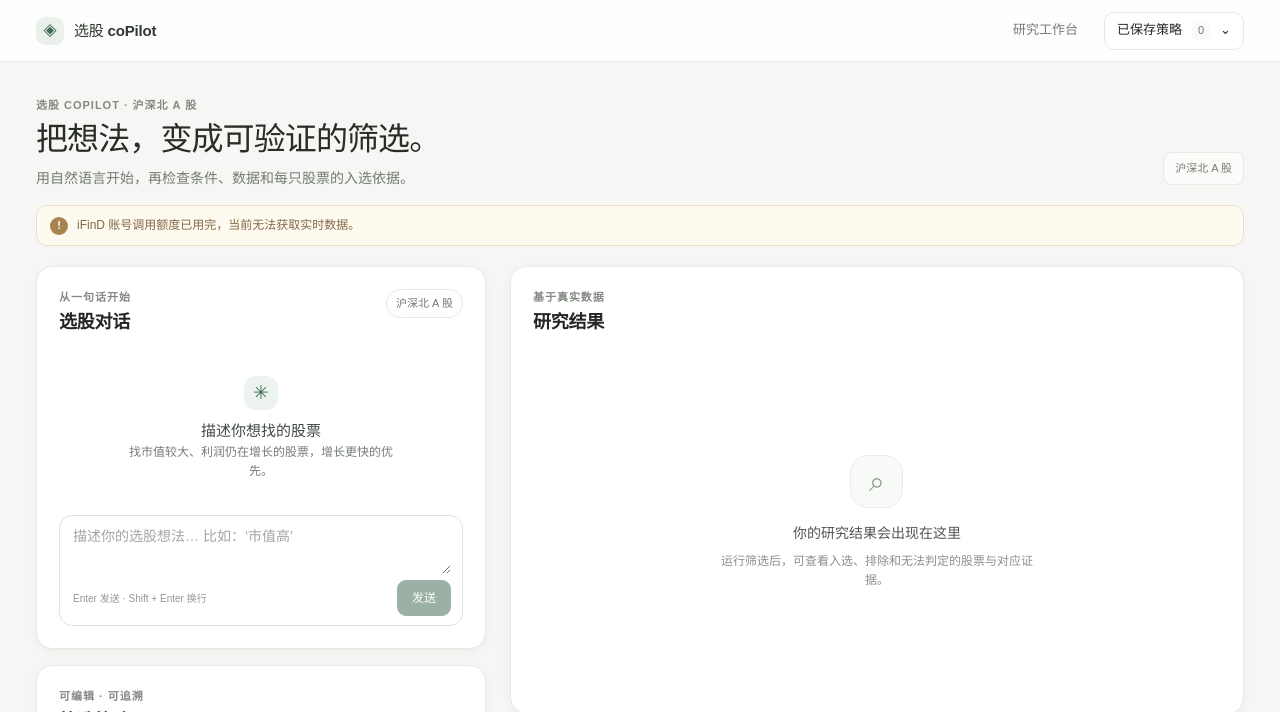
Test: CopilotWorkspace › renders industry concepts and unknown concepts without internal identifiers
Type "银行股" into the text box named "请输入选股需求" at [262, 550], box [73,526,451,574]
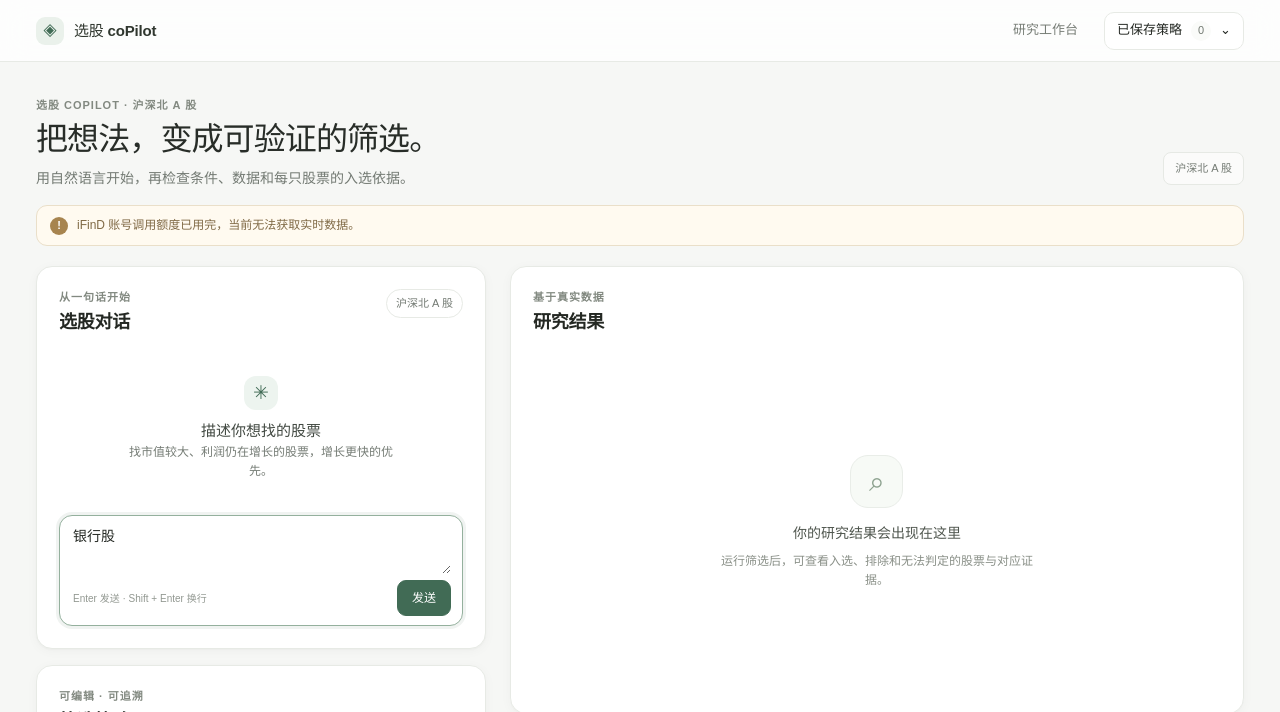
Click the button "发送" at [424, 598], box [397,580,451,616]
(page scrolled)
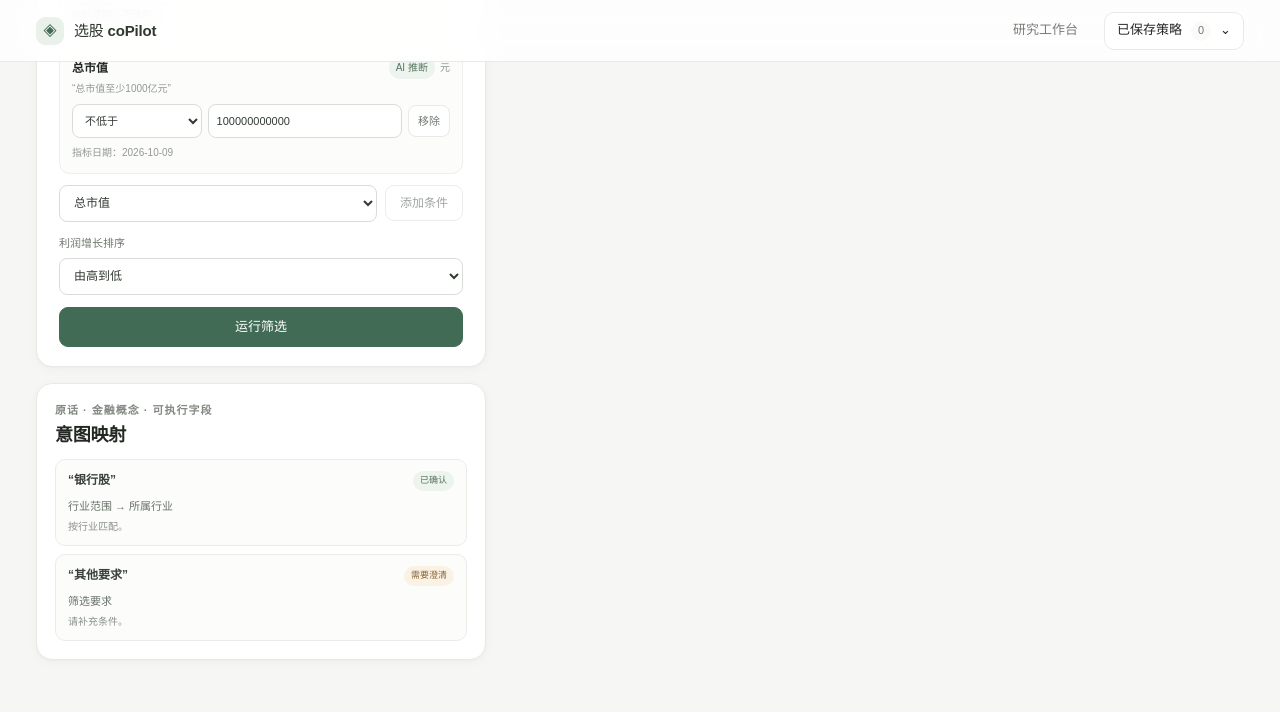
Expected: the element "意图映射" shows "行业范围 → 所属行业", [68,500,173,512]
Expected: the element "意图映射" shows "筛选要求", [68,595,112,607]
